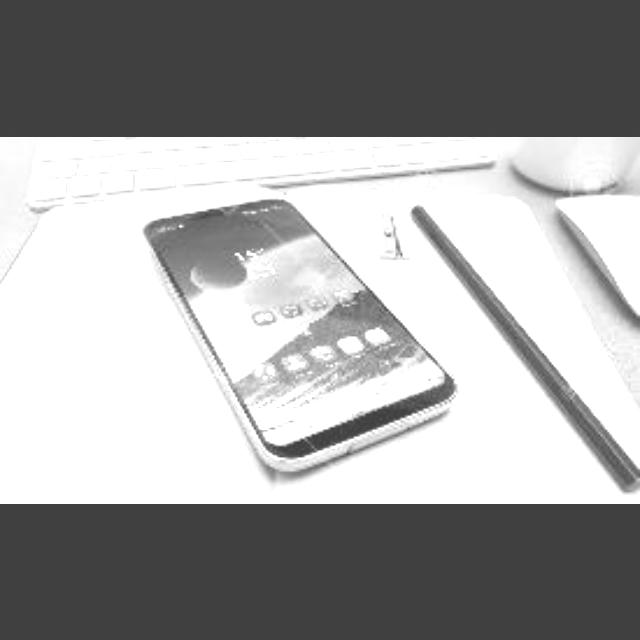fake: (142, 188, 457, 476)
